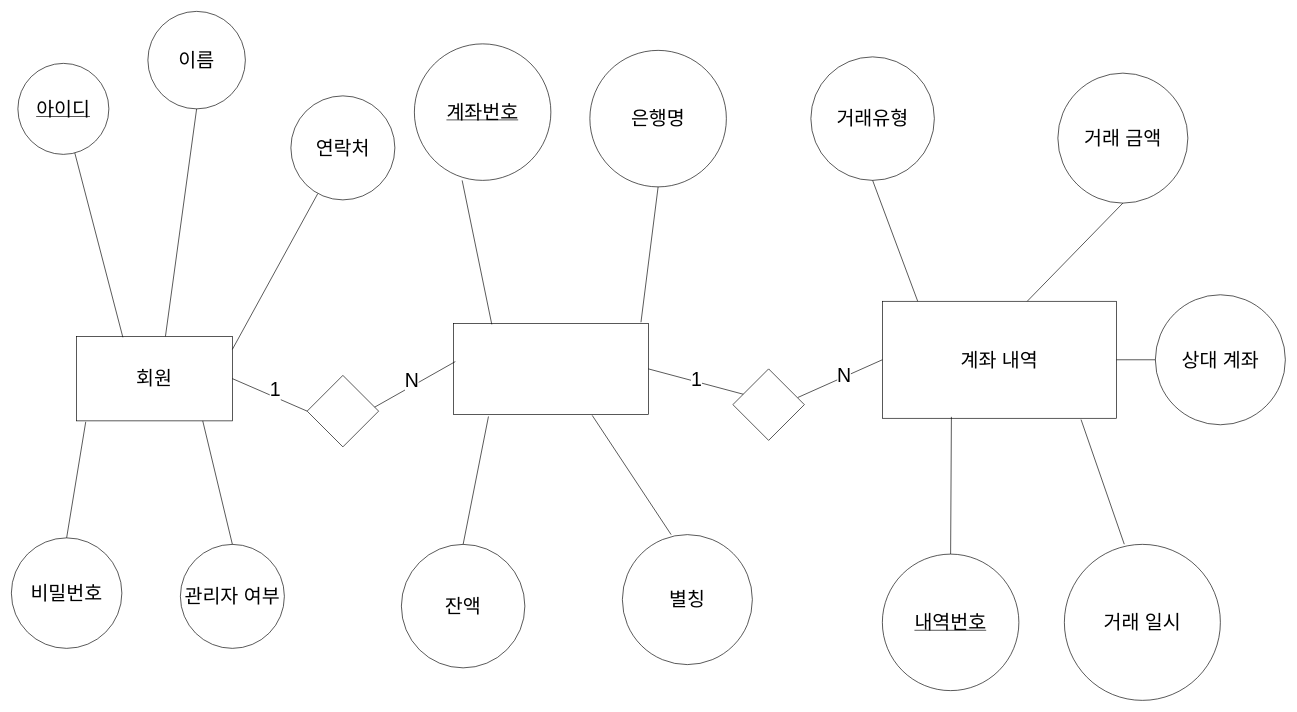
This 1297x712 diagram has some shape labels left out. Here are the shapes that lost their labels. From the top down, the box of each, then its label:
(453, 323, 648, 414): 계좌
(306, 375, 379, 447): 소유
(732, 368, 804, 440): 발생
